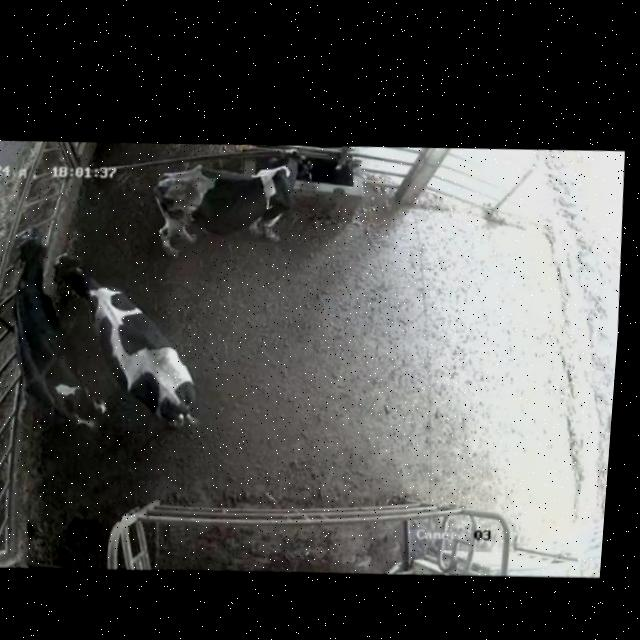drink: (259, 141, 322, 225)
stand: (39, 235, 224, 448), (0, 227, 120, 447)
